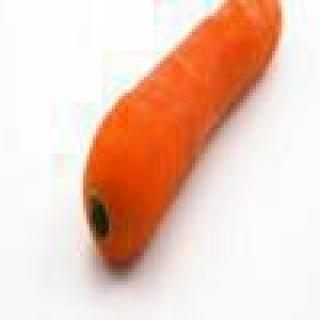Wortel: (59, 1, 299, 286)
